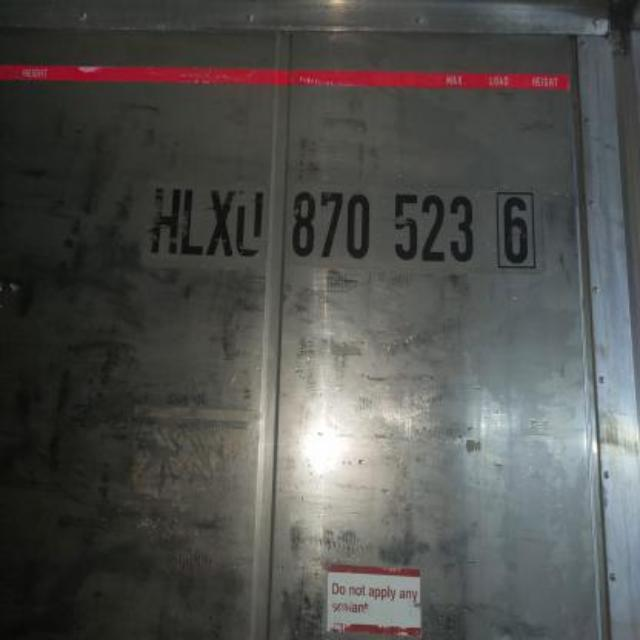0: (344, 184, 371, 264)
2: (418, 175, 448, 268)
3: (448, 185, 476, 269)
5: (393, 176, 419, 266)
6: (497, 190, 538, 274)
7: (315, 186, 345, 256)
8: (288, 186, 316, 262)
H: (150, 178, 180, 258)
L: (180, 177, 203, 261)
U: (237, 180, 267, 262)
X: (206, 179, 236, 263)
